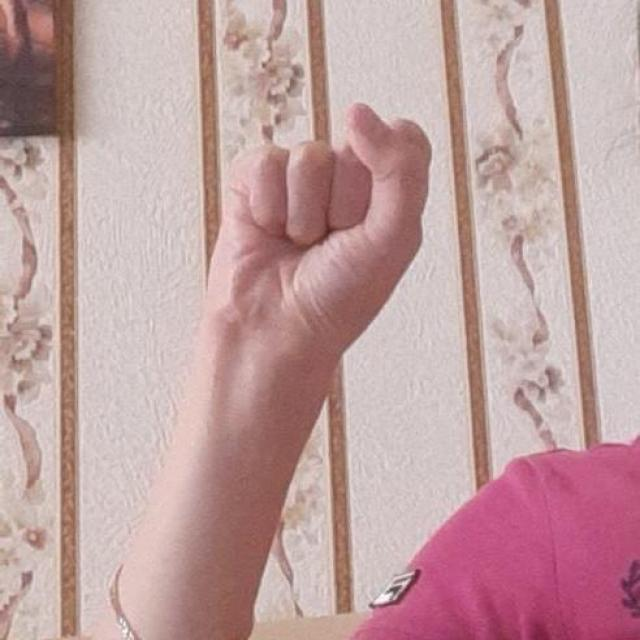hand: (195, 99, 433, 346)
